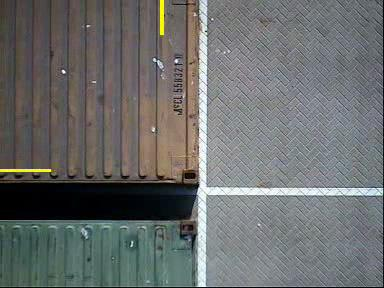groundmarker_2: (184, 137, 269, 254)
